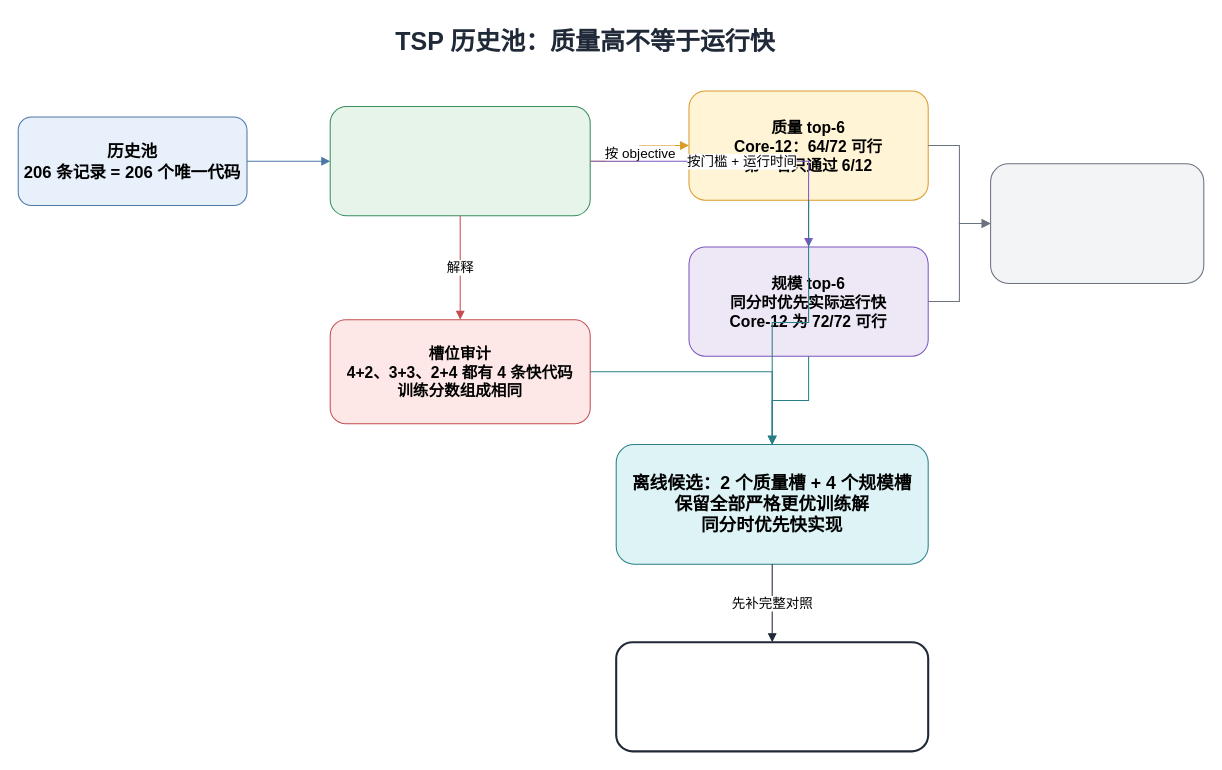
Image size: 1222x770. Some labels were removed from this diagram. Each missing label, with the centre of its shape:
"下一步 Stage AU 用非 held-out 合成 dev 探针 重新生成规模槽并检查 false-safe" goes at (772,696).
"严格速度阶梯 201 → 201 → 164 → 105 最终 51.0% 通过" goes at (459,161).
"质量第一名 vs 规模第一名 共同可行：4 胜 0 平 2 负 中位改善 2.58，但超时 6/12" goes at (1097,223).
